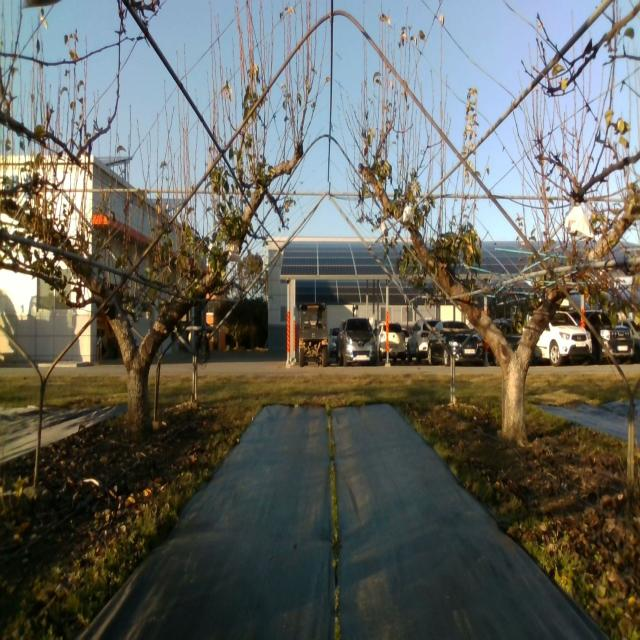pearbags: (564, 201, 594, 239), (227, 242, 240, 262)
